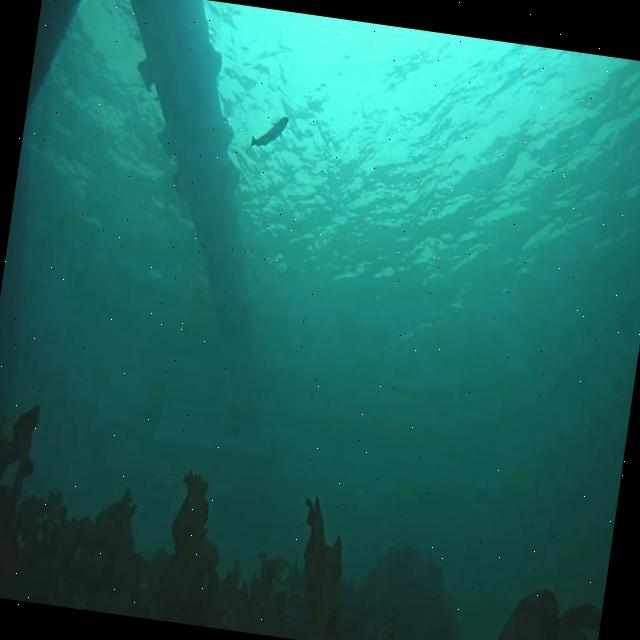fish: (248, 114, 289, 154)
